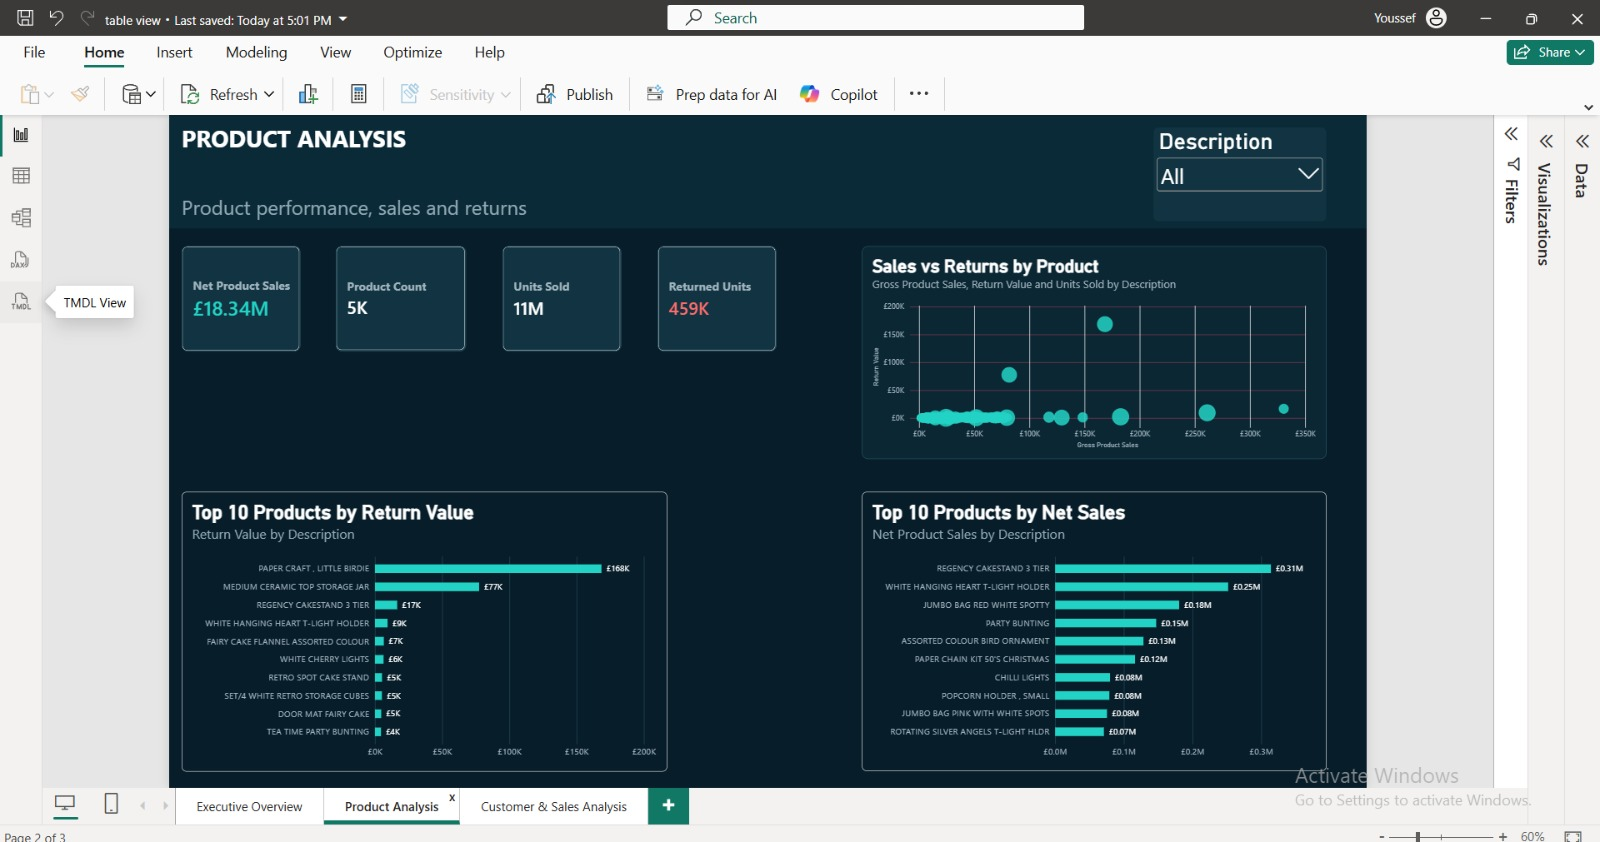

The dashboard page shown, as its layout file describes it:
{"tool":"powerbi","page":{"name":"Product Analysis","canvas":[1920,1080],"ordinal":1},"visuals":[{"type":"shape","box":[0,0,1920.2,182],"z":0},{"type":"cardVisual","title":"Net Sales","fields":{"Data":["_Measures.Net Product Sales"]},"box":[20,210.3,190,169],"z":1000},{"type":"cardVisual","title":"Gross Sales","fields":{"Data":["_Measures.Product Count"]},"box":[268,210.6,208.7,168.6],"z":2000},{"type":"cardVisual","title":"Return Value","fields":{"Data":["_Measures.Units Sold"]},"box":[534.7,210.4,190,169],"z":3000},{"type":"cardVisual","title":"Total Orders","fields":{"Data":["_Measures.Returned Units"]},"box":[782.6,210.5,190,169],"z":4000},{"type":"textbox","box":[0,0,505.5,169.8],"z":7000},{"type":"barChart","title":"Top 10 Products by Net Sales","fields":{"Category":["Dim_Product.Description"],"Y":["_Measures.Net Product Sales"]},"box":[1111,605.2,744.8,448.3],"z":9000},{"type":"textbox","box":[20.1,12.1,650.7,100.4],"z":10000},{"type":"textbox","box":[20,125.2,963.5,43.4],"z":11000},{"type":"slicer","fields":{"Values":["Dim_Product.Description"]},"box":[1577.8,19.8,277,150],"z":12000},{"type":"barChart","title":"Top 10 Products by Return Value","fields":{"Category":["Dim_Product.Description"],"Y":["_Measures.Return Value"]},"box":[19.8,605.2,778.1,448.5],"z":12001},{"type":"scatterChart","title":"Sales vs Returns by Product","fields":{"Category":["Dim_Product.Description"],"Size":["_Measures.Units Sold"],"X":["_Measures.Gross Product Sales"],"Y":["_Measures.Return Value"]},"box":[1111,211,744.8,341.9],"z":12002}]}

Visuals, with their boxes on the page's 1920x1080 design canvas (x1, y1, x2, y2). These are canvas units, not pixel positions in the 1600x842 screenshot, which may show the page scaled, cropped or inside an application window:
shape: (left=0, top=0, right=1920, bottom=182)
"Net Sales" cardVisual: (left=20, top=210, right=210, bottom=379)
"Gross Sales" cardVisual: (left=268, top=211, right=477, bottom=379)
"Return Value" cardVisual: (left=535, top=210, right=725, bottom=379)
"Total Orders" cardVisual: (left=783, top=210, right=973, bottom=380)
textbox: (left=0, top=0, right=506, bottom=170)
"Top 10 Products by Net Sales" barChart: (left=1111, top=605, right=1856, bottom=1054)
textbox: (left=20, top=12, right=671, bottom=112)
textbox: (left=20, top=125, right=984, bottom=169)
slicer - Dim_Product.Description: (left=1578, top=20, right=1855, bottom=170)
"Top 10 Products by Return Value" barChart: (left=20, top=605, right=798, bottom=1054)
"Sales vs Returns by Product" scatterChart: (left=1111, top=211, right=1856, bottom=553)
